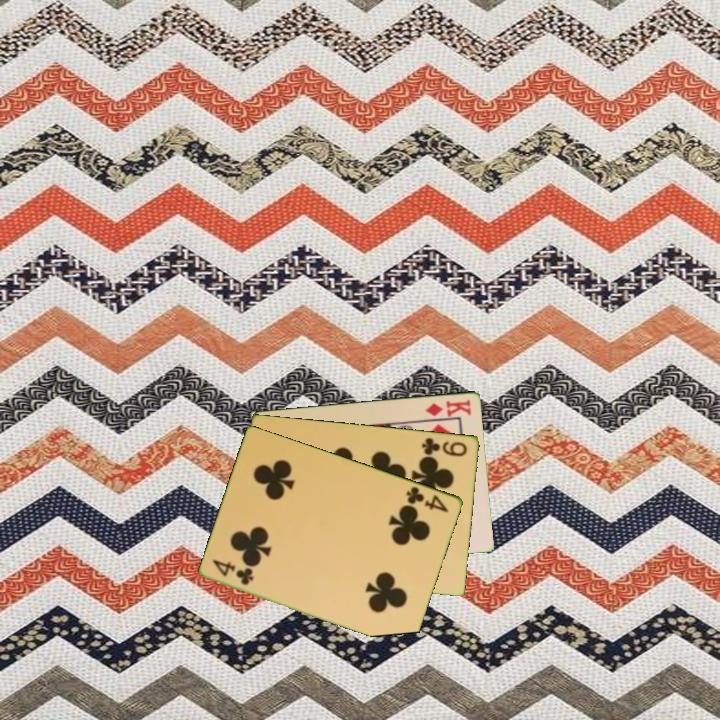4c: (403, 483, 452, 515), (209, 556, 257, 588)
9c: (418, 434, 470, 459)
Kd: (422, 396, 474, 419)
